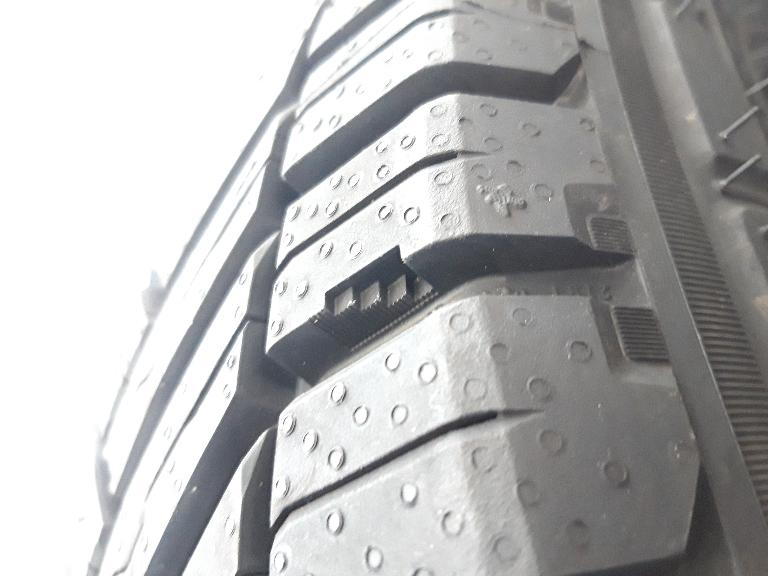temoin:100: (302, 240, 446, 358)
